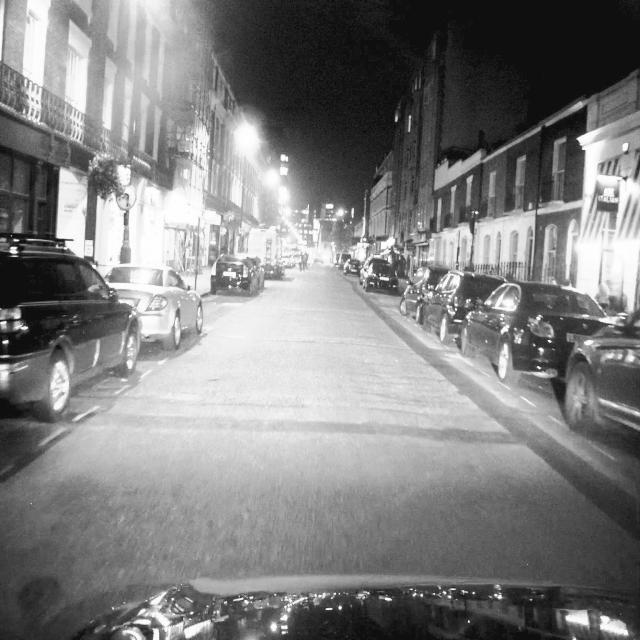Car: (0, 229, 139, 420), (461, 284, 611, 384), (564, 298, 640, 434), (95, 256, 202, 346)
